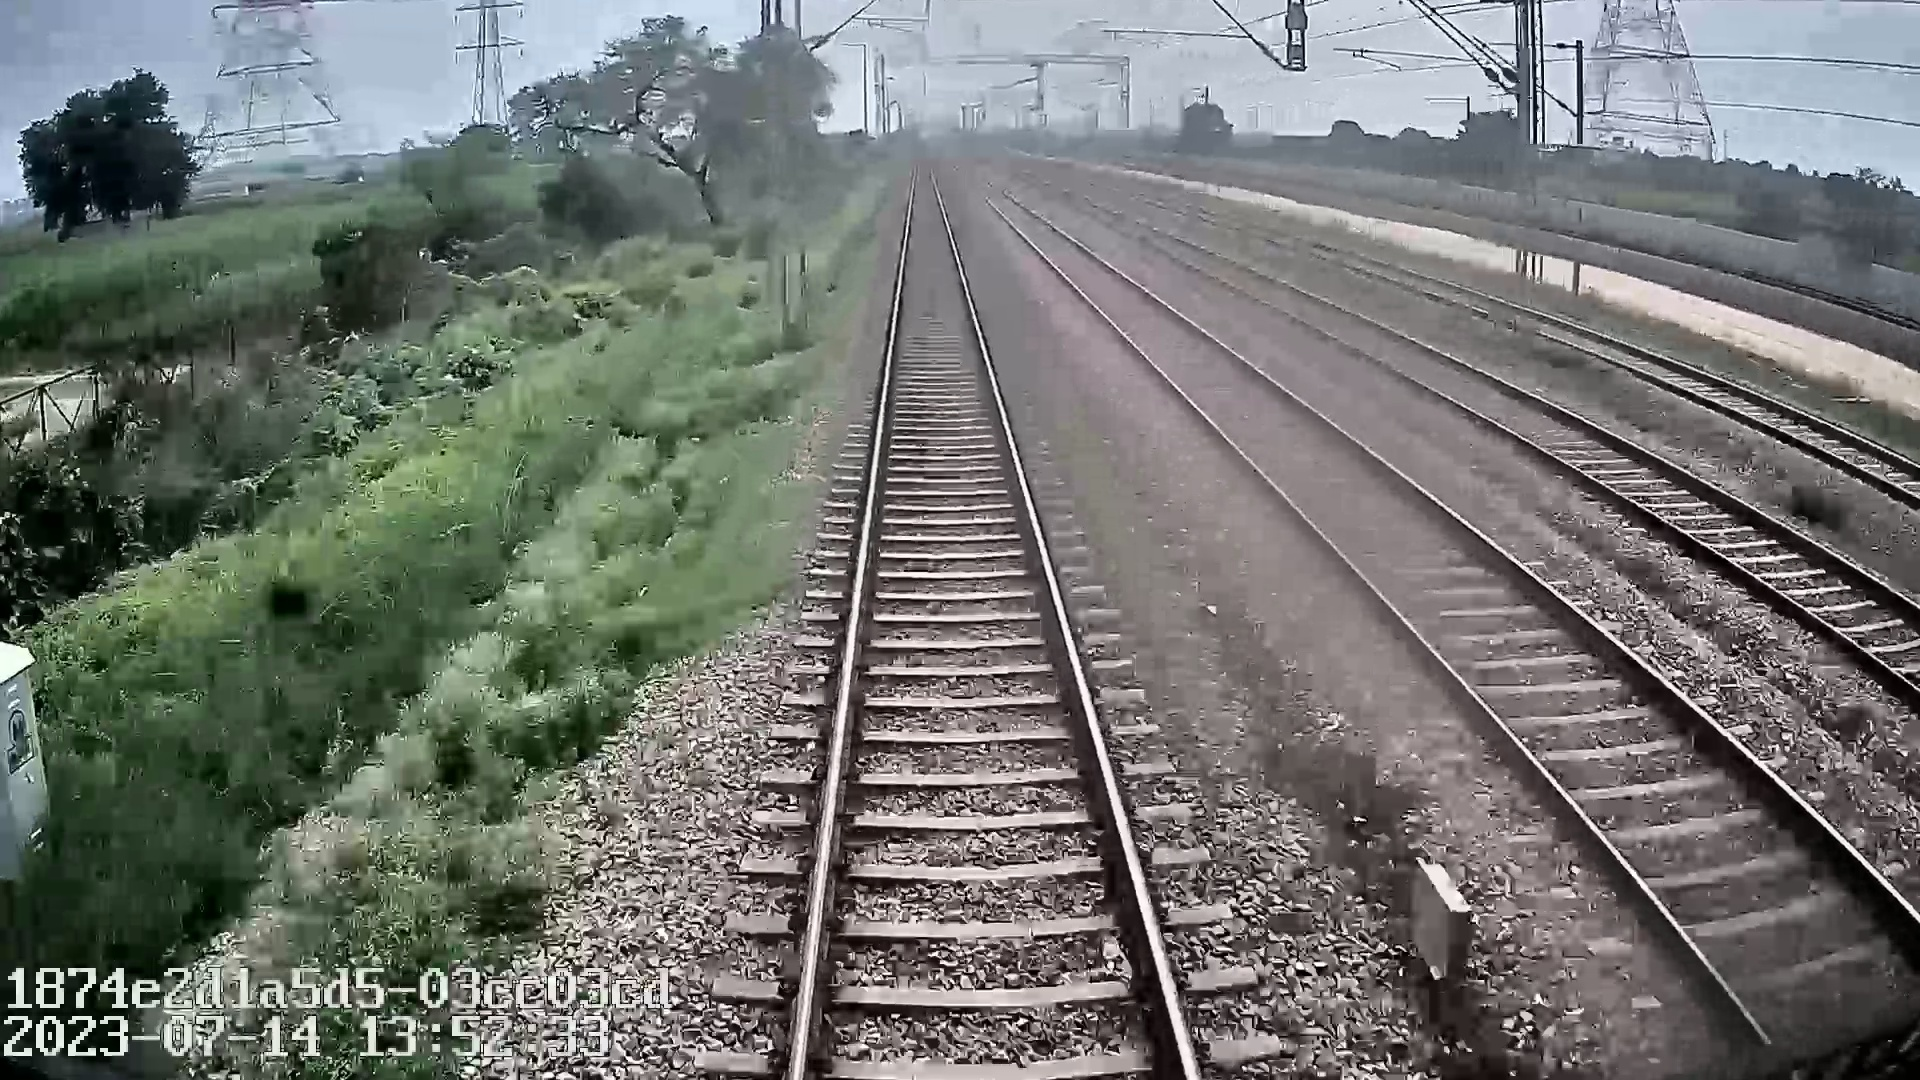track1: (795, 169, 1193, 1069)
track2: (985, 190, 1919, 1017)
track3: (1224, 273, 1919, 678)
track4: (1424, 281, 1919, 496)
